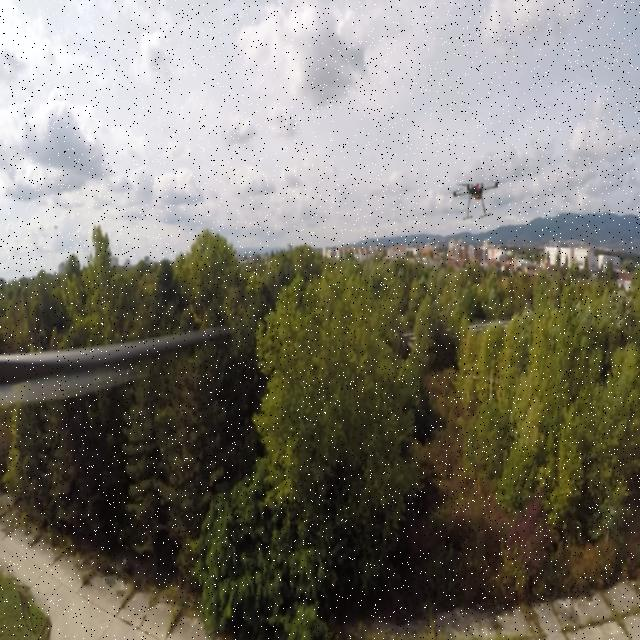UAV: (442, 170, 508, 225)
